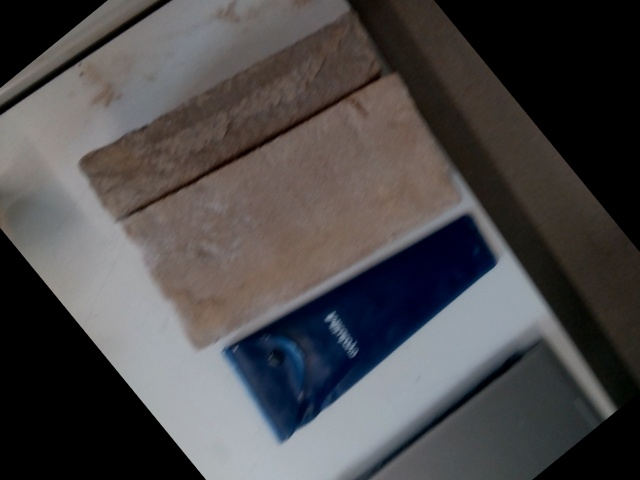brick: (130, 73, 463, 350)
